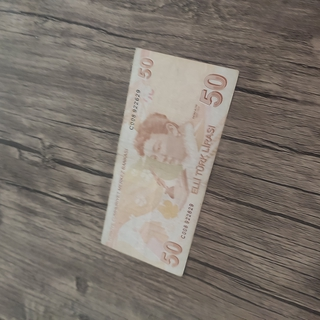50TLBack: (99, 46, 240, 277)
